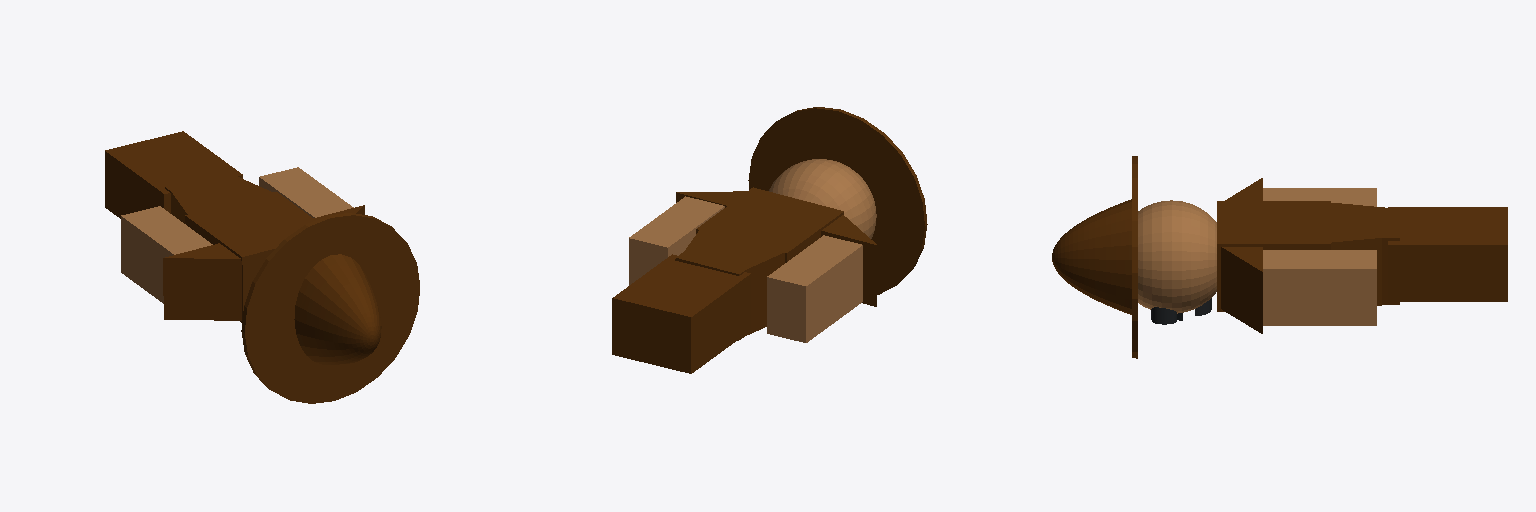
File: tinker.obj
The picture shows the model from 3 angles: view 1: azimuth 30°, elevation 25°; view 2: azimuth 150°, elevation 25°; view 3: azimuth 270°, elevation 25°; orthographic projection.
Parts seen in each view (by area): view 1: obj_0; view 2: obj_0; view 3: obj_0.
Boxes of the visible parts, x1=… form: obj_0: x1=105, y1=131, x2=419, y2=403; obj_0: x1=612, y1=107, x2=927, y2=373; obj_0: x1=1052, y1=156, x2=1507, y2=358.
Size of the model in its own units: 41.2 by 35.79 by 80.